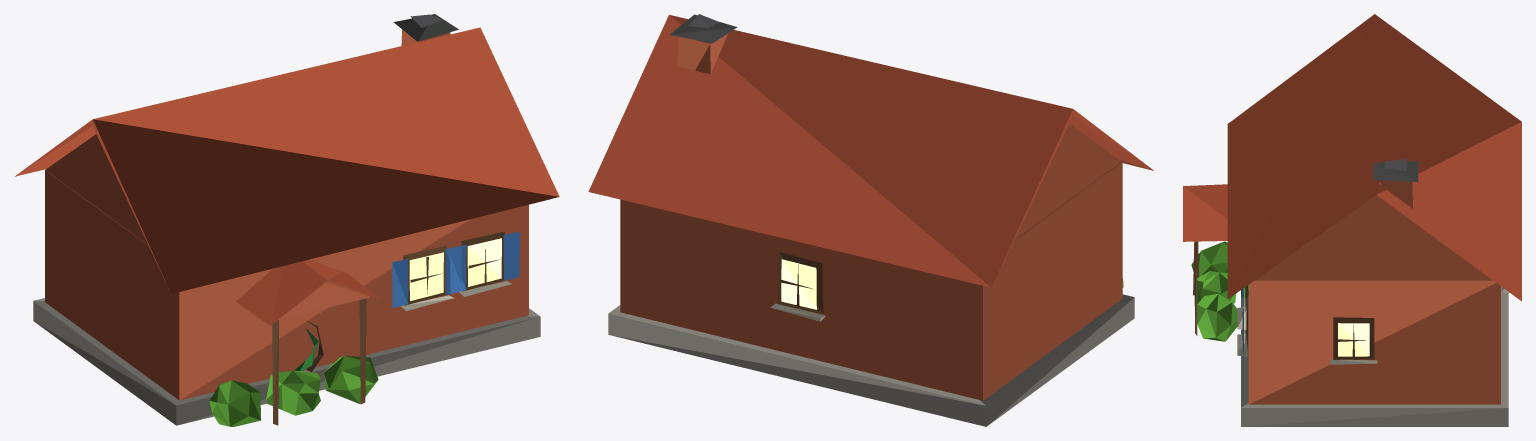
The model's file is hobbit_cottage_2_lod1.glb.
3 renders of one model, left to right at view 1: azimuth 30°, elevation 25°; view 2: azimuth 150°, elevation 25°; view 3: azimuth 270°, elevation 25°, orthographic. The views are drawn at different scales.
Parts seen in each view (by area): view 1: hobbit_cottage_2_lod1; view 2: hobbit_cottage_2_lod1; view 3: hobbit_cottage_2_lod1.
Boxes of the visible parts, x1=… form: hobbit_cottage_2_lod1: x1=15, y1=14, x2=559, y2=426; hobbit_cottage_2_lod1: x1=588, y1=14, x2=1153, y2=426; hobbit_cottage_2_lod1: x1=1183, y1=14, x2=1521, y2=426.
Size of the model in its own units: 8 by 5.3 by 6.45.
